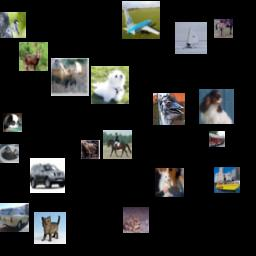airplane: (122, 1, 160, 39)
automobile: (30, 158, 65, 193), (0, 203, 29, 232)
bird: (153, 93, 185, 125), (0, 12, 26, 38)
cat: (34, 212, 66, 244), (0, 144, 19, 163)
deer: (51, 58, 89, 96), (19, 42, 48, 71)
dog: (91, 66, 129, 104), (199, 89, 234, 124), (155, 168, 184, 197), (3, 113, 22, 132)
frog: (123, 207, 149, 233), (81, 140, 100, 159)
ship: (175, 22, 207, 54), (214, 167, 240, 193)
truck: (209, 131, 225, 147)
